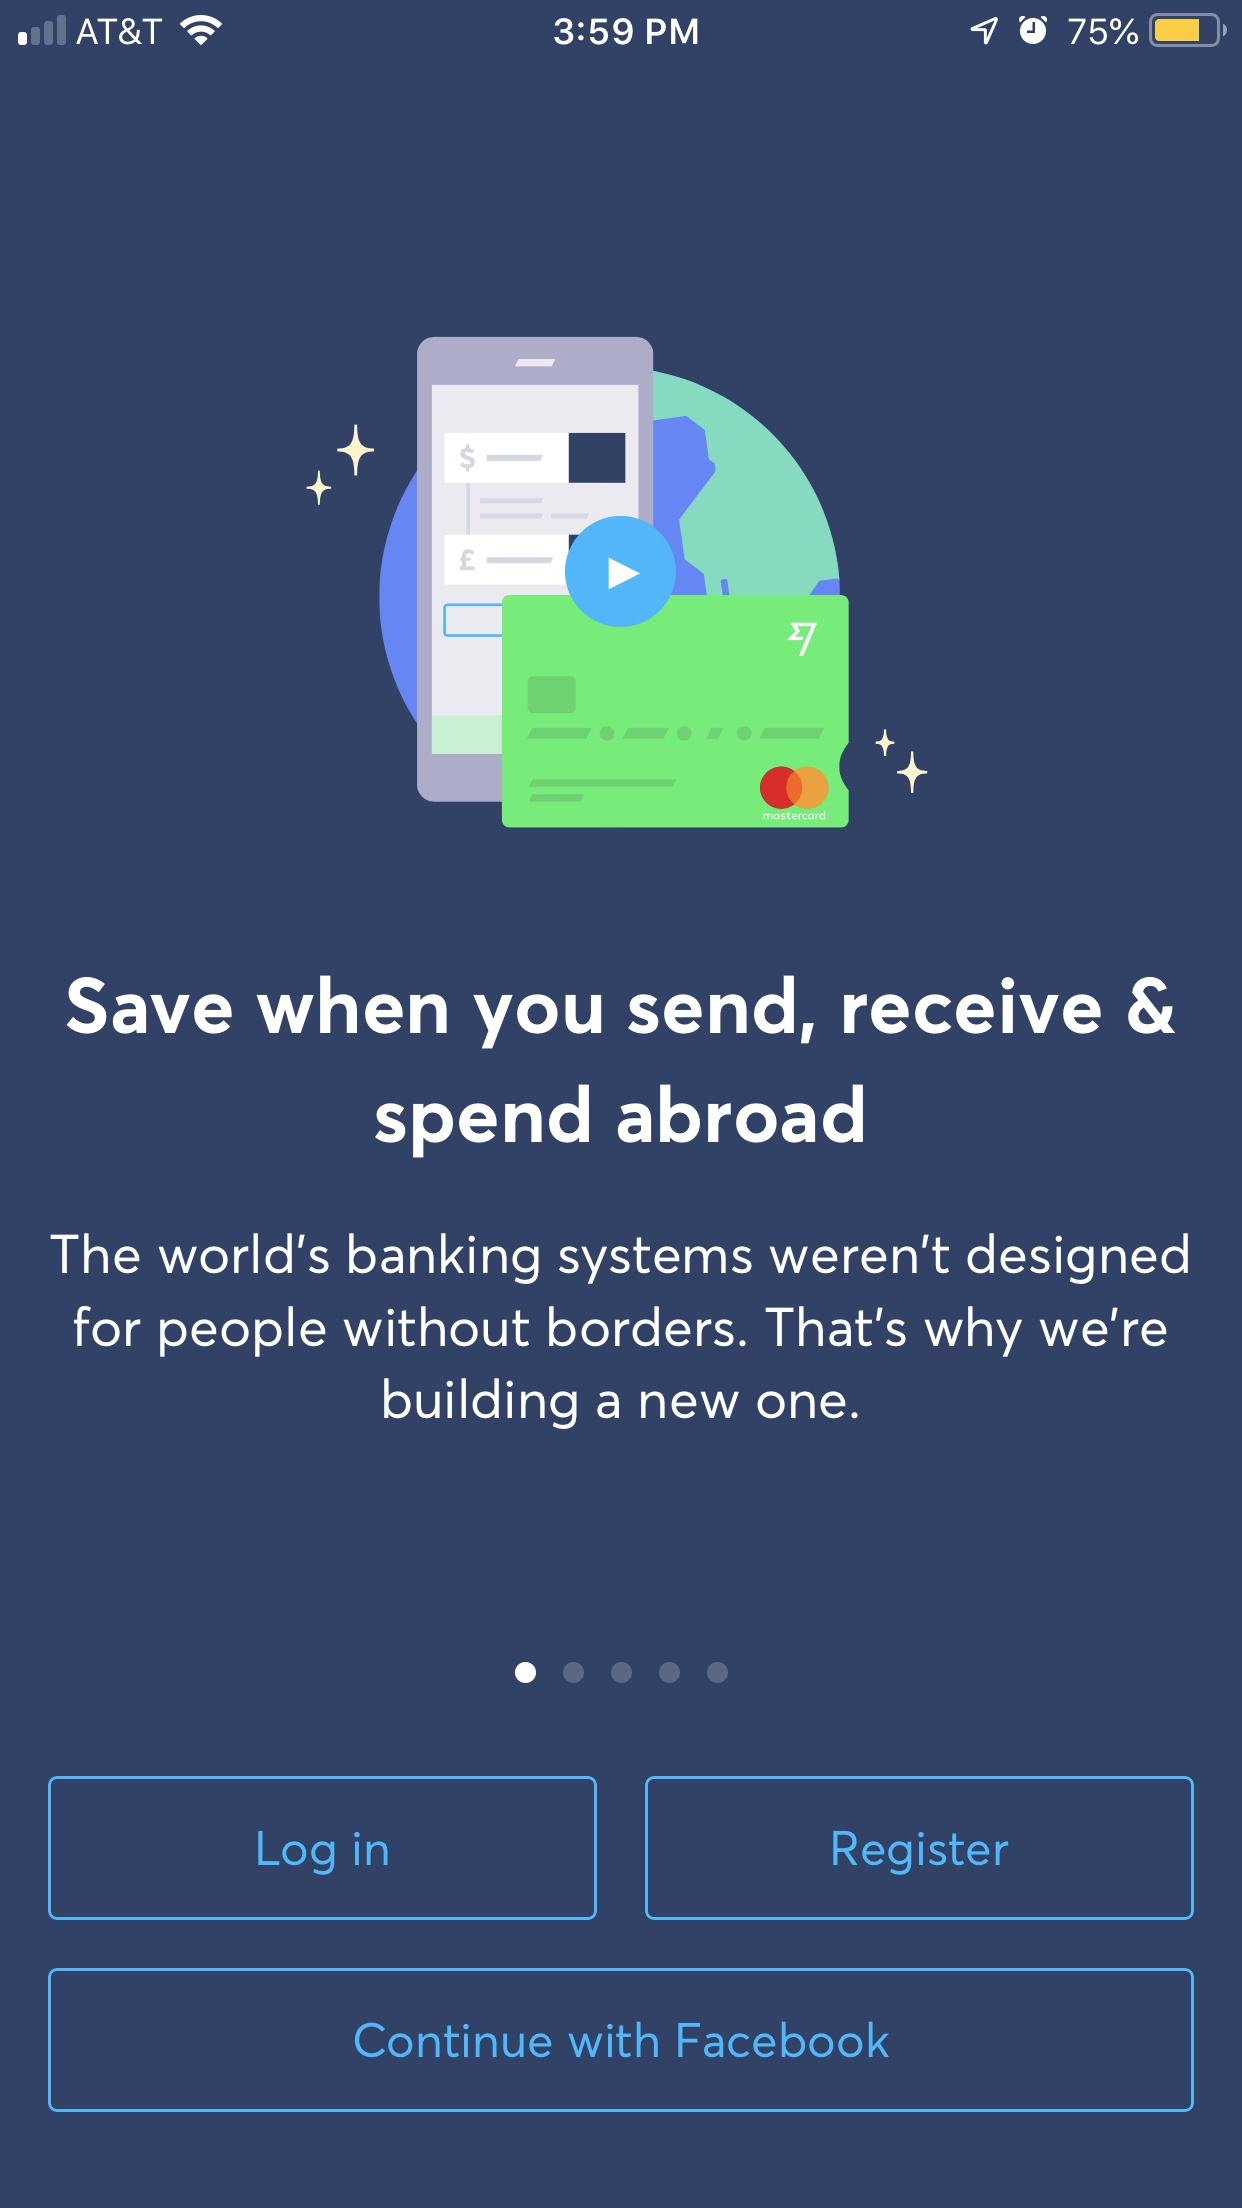Image: (303, 332, 930, 834)
PageIndicator: (511, 1658, 729, 1685)
Text: (45, 1227, 1187, 1432), (67, 974, 1178, 1159)
TextButton: (45, 1962, 1195, 2112), (641, 1771, 1197, 1923), (49, 1771, 597, 1920)
UpperTaskBar: (2, 2, 1242, 49)
